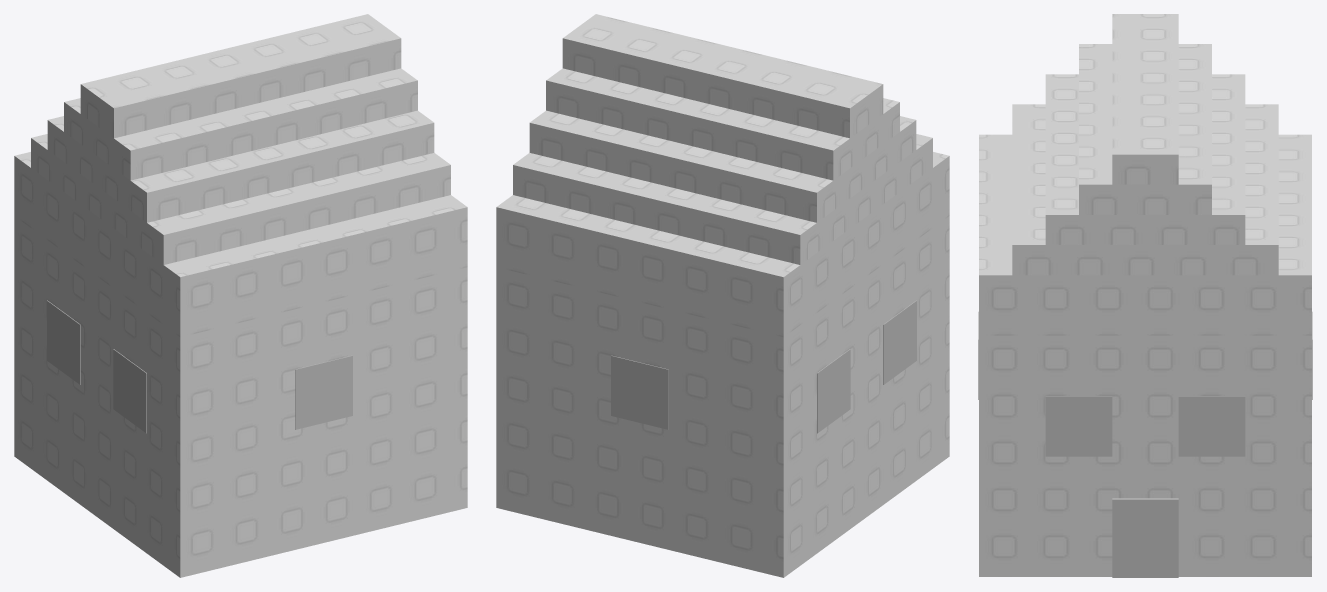
Rendered from 2FloorHouseA.FBX.
The picture shows the model from 3 angles, left to right: view 1: azimuth 30°, elevation 25°; view 2: azimuth 150°, elevation 25°; view 3: azimuth 270°, elevation 25°; orthographic projection.
Visible parts, largest first — view 1: qiang, wuding, chuang; view 2: qiang, wuding, chuang; view 3: wuding, qiang, chuang, men.
Part boxes in pixels (left/top/right/bottom): qiang: left=14, top=216, right=467, bottom=577; wuding: left=14, top=14, right=467, bottom=337; chuang: left=47, top=300, right=352, bottom=433; qiang: left=496, top=216, right=949, bottom=577; wuding: left=496, top=14, right=949, bottom=337; chuang: left=611, top=300, right=916, bottom=433; wuding: left=979, top=14, right=1311, bottom=335; qiang: left=979, top=335, right=1311, bottom=576; chuang: left=978, top=311, right=1312, bottom=456; men: left=1112, top=498, right=1178, bottom=577.
Size of the model in its own units: 6.49 by 9 by 6.46.
